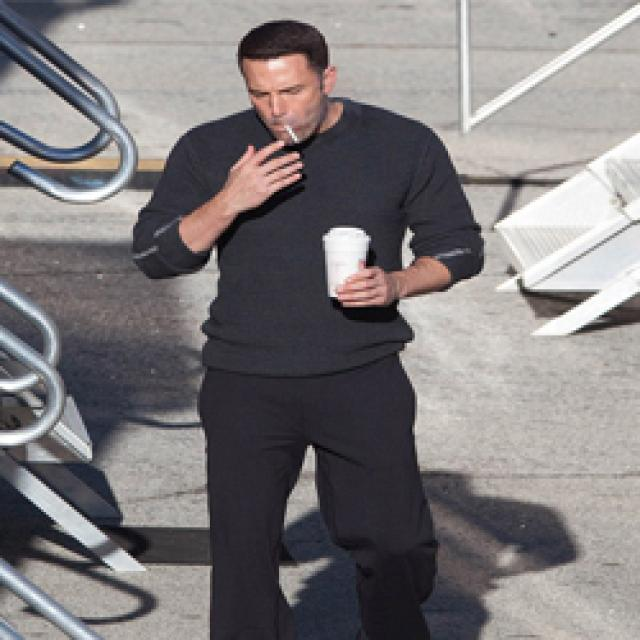Smooking: (279, 118, 307, 154)
